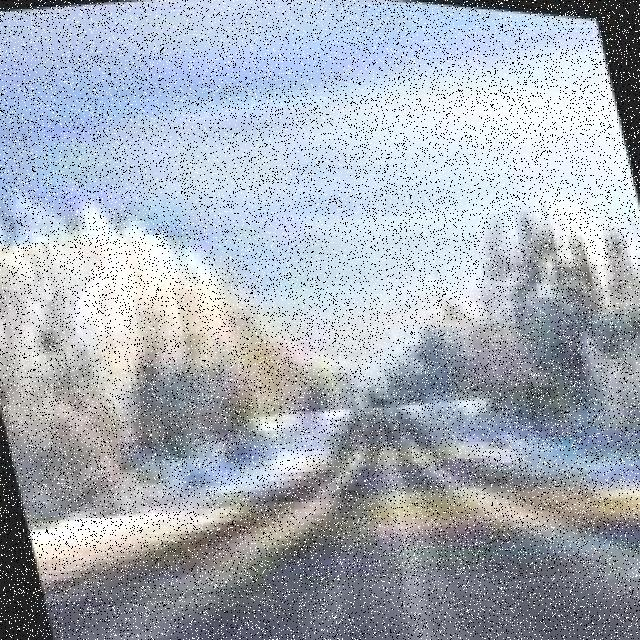clear-road: (36, 398, 640, 640)
